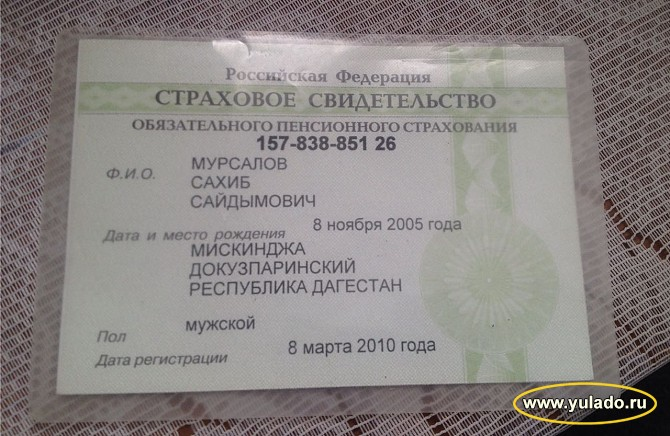text: (189, 239, 404, 299), (285, 335, 443, 356), (250, 132, 401, 153), (309, 216, 464, 235), (187, 191, 322, 210), (186, 150, 291, 172), (183, 313, 256, 332), (188, 173, 255, 190)
